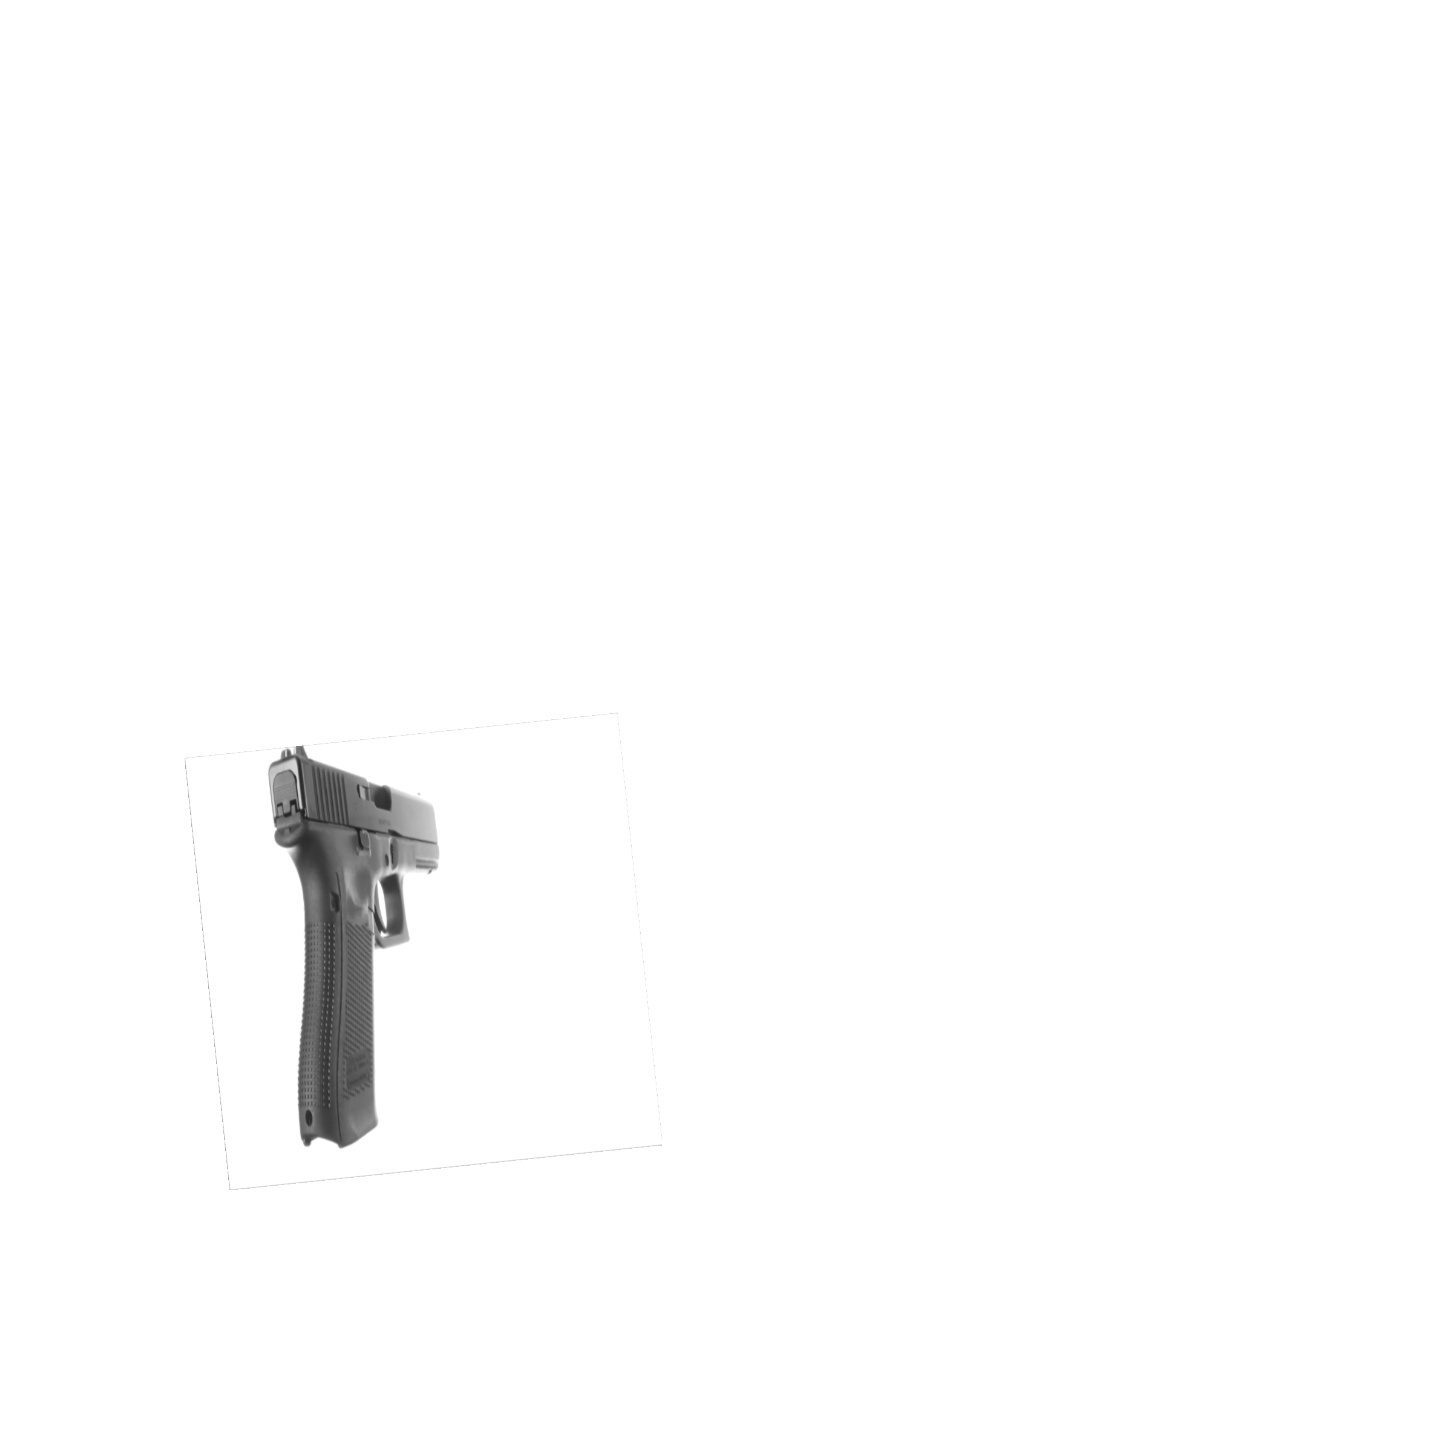gun: (255, 741, 450, 1158)
